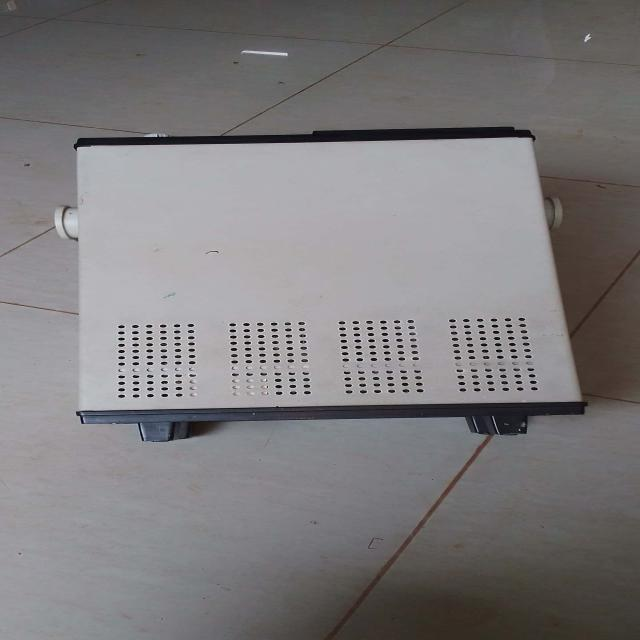Cathode Ray Oscilloscope: (35, 116, 633, 447)
